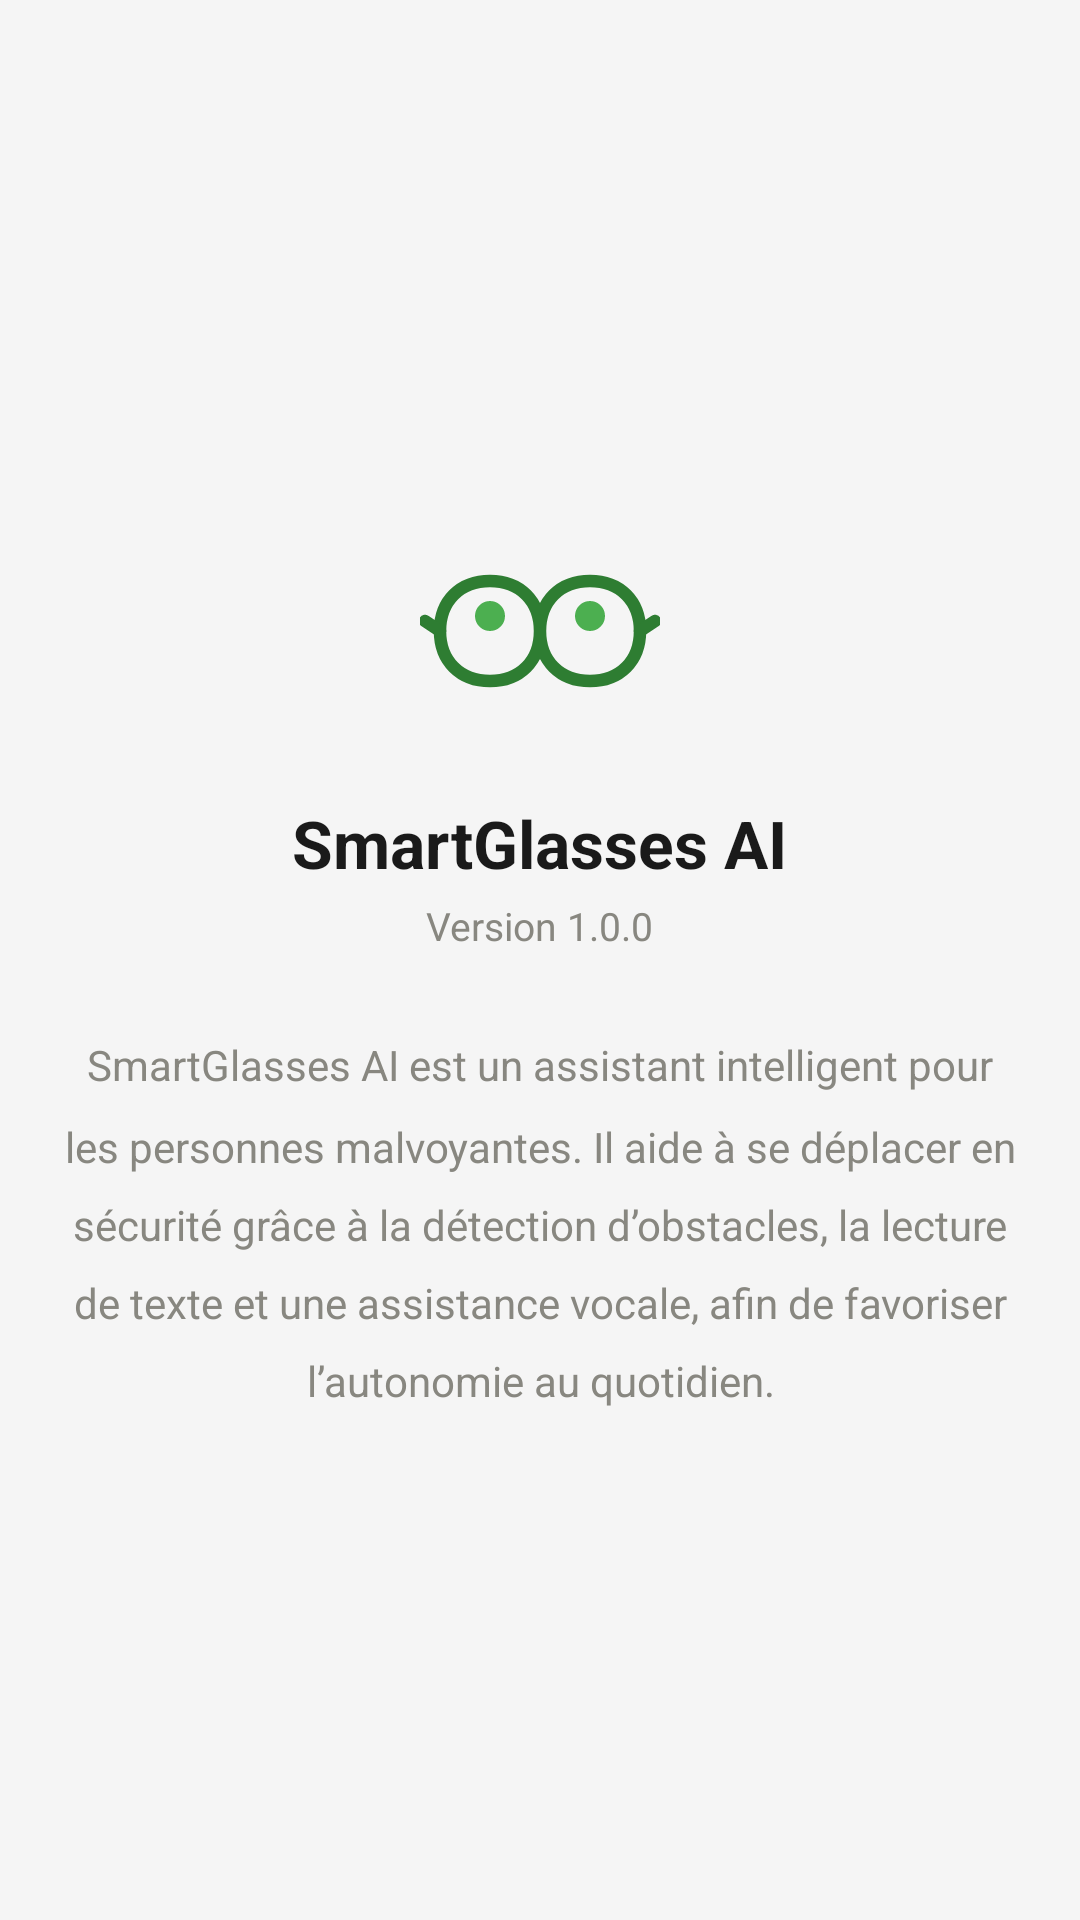

Where icons sit on this 1080x1920 app screen, as (x1, y1, x2, y2):
glasses on: (420, 574, 660, 688)
